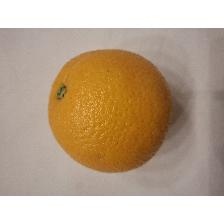Orange: (48, 48, 174, 174)
